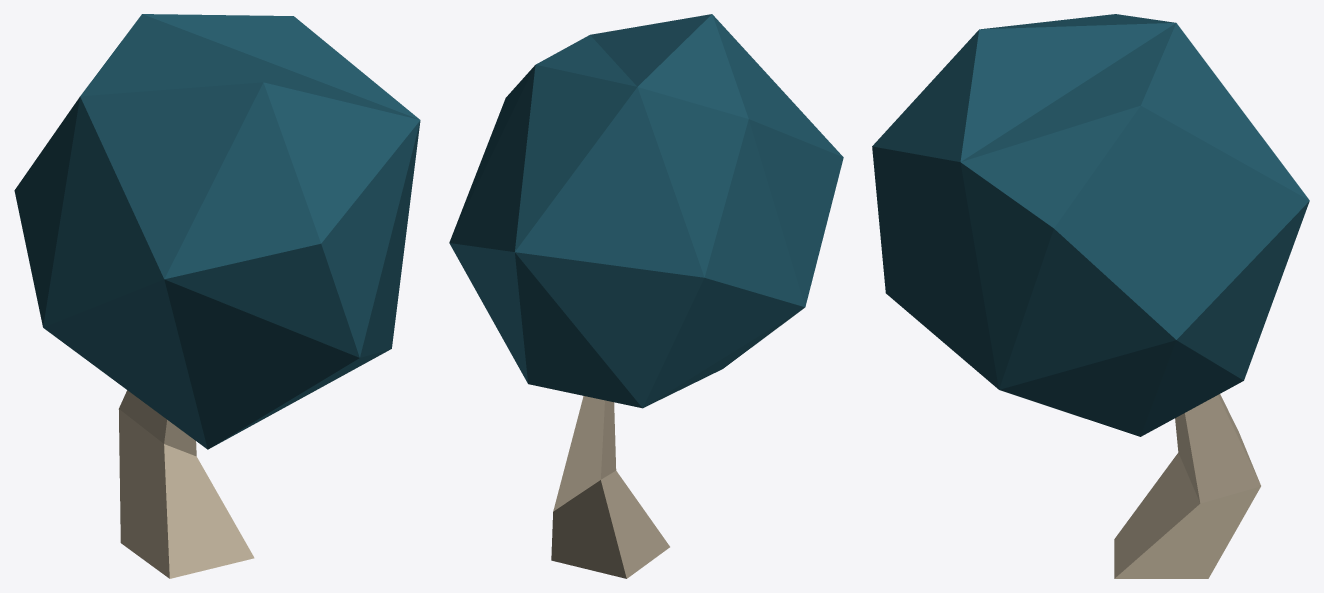
File: tree-2.fbx
3 renders of one model, left to right at view 1: azimuth 30°, elevation 25°; view 2: azimuth 150°, elevation 25°; view 3: azimuth 270°, elevation 25°, orthographic. The views are drawn at different scales.
Parts seen in each view (by area): view 1: Capsule, Pyramide; view 2: Capsule, Pyramide; view 3: Capsule, Pyramide.
Part boxes in pixels (x1=…): Capsule: x1=14, y1=14, x2=420, y2=449; Pyramide: x1=118, y1=390, x2=254, y2=578; Capsule: x1=449, y1=14, x2=843, y2=408; Pyramide: x1=551, y1=396, x2=669, y2=578; Capsule: x1=872, y1=14, x2=1309, y2=436; Pyramide: x1=1114, y1=394, x2=1260, y2=578.
Size of the model in its own units: 77.96 by 114 by 86.49.
